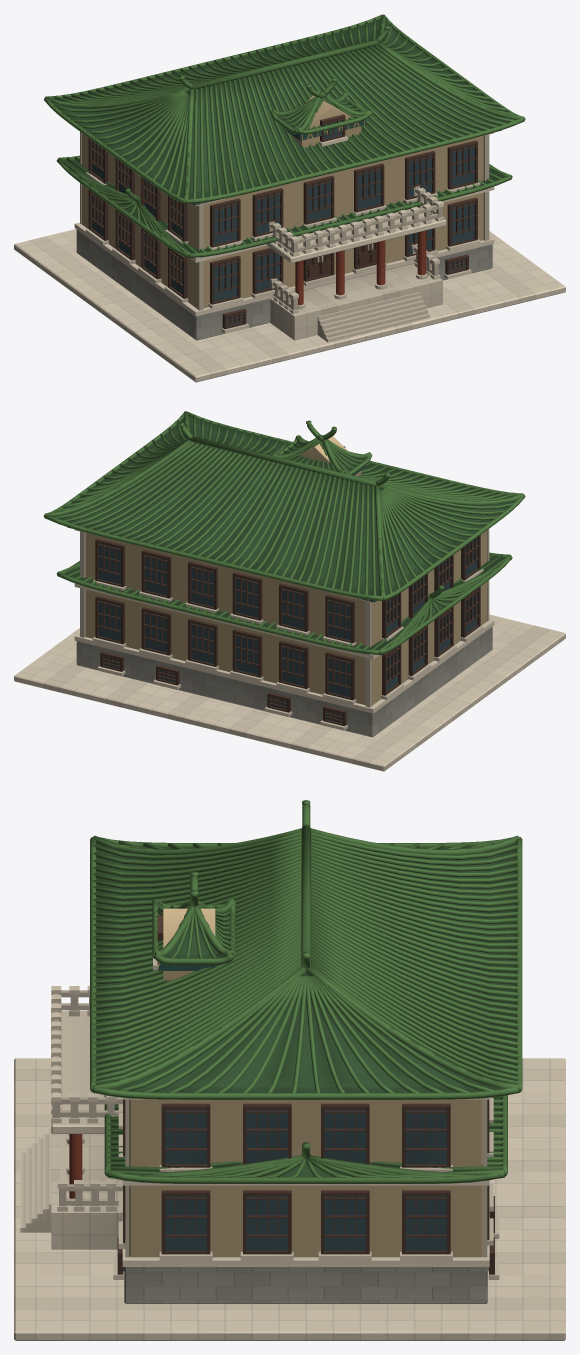
The model's file is meiling.glb.
3 views of the same model, one above another, from view 1: azimuth 30°, elevation 25°; view 2: azimuth 150°, elevation 25°; view 3: azimuth 270°, elevation 25° (orthographic). The views are drawn at different scales.
Visible parts, largest first — view 1: 美龄宫_WEB_建筑; view 2: 美龄宫_WEB_建筑; view 3: 美龄宫_WEB_建筑.
Part boxes in pixels (x1,y1,x2,y2): 美龄宫_WEB_建筑: (14, 14, 565, 382); 美龄宫_WEB_建筑: (14, 411, 565, 771); 美龄宫_WEB_建筑: (14, 800, 565, 1340).
Size of the model in its own units: 20 by 11.11 by 17.
Materials: 11 (3 with a texture image).
